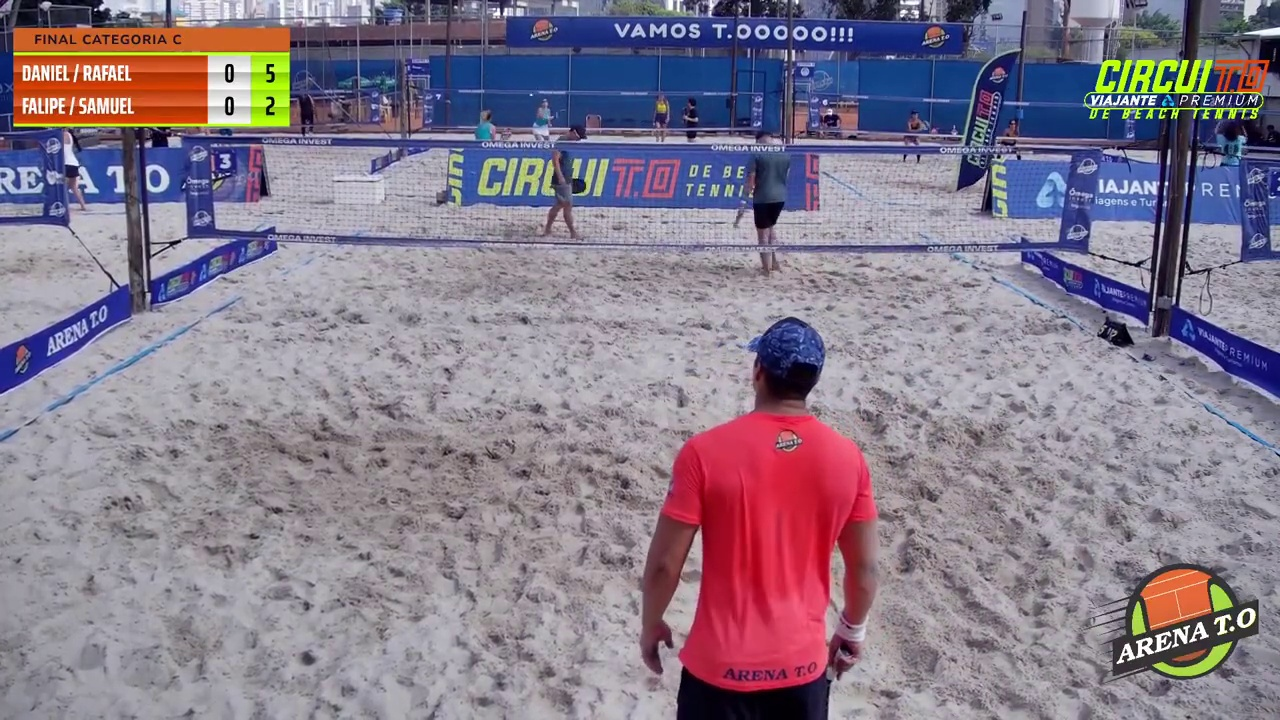court_line: (590, 0, 810, 386)
